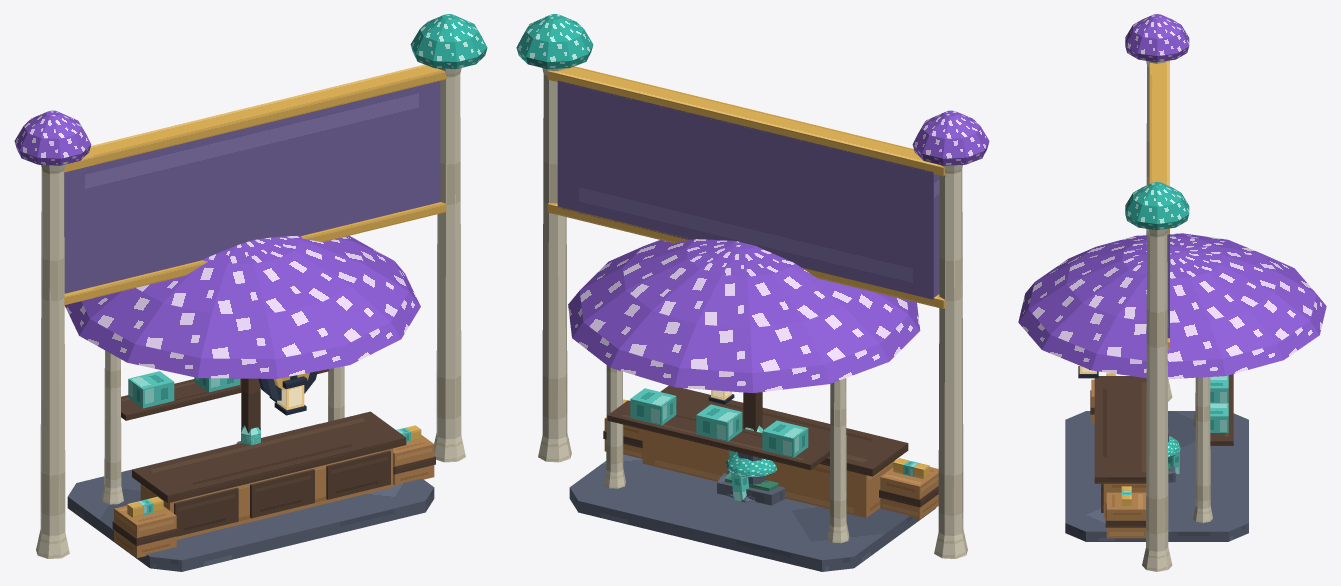
The model's file is fungal-props.glb.
3 views of the same model, side by side, from view 1: azimuth 30°, elevation 25°; view 2: azimuth 150°, elevation 25°; view 3: azimuth 270°, elevation 25° (orthographic). The views are drawn at different scales.
Visible parts, largest first — view 1: Board, Canopy, Deck, CounterTop, Upright, Upright.001, BoardTrim, BoardTrimLow, UprightCap.001, UprightCap, Post, Counter (+10 smaller); view 2: Board, Canopy, Deck, Upright, Upright.001, BoardTrim, Counter, CounterTop, Shelf, UprightCap.001, UprightCap, Post (+9 smaller); view 3: Canopy, Deck, Upright.001, CounterTop, BoardTrim, UprightCap.001, UprightCap, Post.001, Crate.001, Shelf, Stock.002, Upright (+2 smaller).
Boxes of the visible parts, x1=… form: Board: x1=64, y1=81, x2=440, y2=293; Canopy: x1=64, y1=235, x2=420, y2=378; Deck: x1=67, y1=423, x2=434, y2=571; CounterTop: x1=132, y1=411, x2=406, y2=503; Upright: x1=36, y1=164, x2=69, y2=558; Upright.001: x1=434, y1=68, x2=465, y2=462; BoardTrim: x1=63, y1=64, x2=447, y2=172; BoardTrimLow: x1=64, y1=202, x2=446, y2=305; UprightCap.001: x1=410, y1=14, x2=487, y2=68; UprightCap: x1=14, y1=110, x2=91, y2=165; Post: x1=101, y1=350, x2=123, y2=504; Counter: x1=140, y1=448, x2=393, y2=539; Board: x1=557, y1=80, x2=939, y2=299; Canopy: x1=568, y1=239, x2=920, y2=393; Deck: x1=569, y1=454, x2=935, y2=571; Upright: x1=934, y1=165, x2=967, y2=558; Upright.001: x1=538, y1=68, x2=571, y2=462; BoardTrim: x1=547, y1=66, x2=945, y2=176; Counter: x1=642, y1=429, x2=895, y2=517; CounterTop: x1=660, y1=385, x2=908, y2=476; Shelf: x1=607, y1=400, x2=829, y2=469; UprightCap.001: x1=516, y1=14, x2=593, y2=68; UprightCap: x1=912, y1=110, x2=989, y2=165; Post: x1=827, y1=378, x2=849, y2=543; Canopy: x1=1018, y1=233, x2=1326, y2=379; Deck: x1=1065, y1=411, x2=1248, y2=541; Upright.001: x1=1142, y1=228, x2=1172, y2=571; CounterTop: x1=1094, y1=376, x2=1146, y2=483; BoardTrim: x1=1149, y1=60, x2=1169, y2=234; UprightCap.001: x1=1125, y1=182, x2=1189, y2=230; UprightCap: x1=1125, y1=14, x2=1189, y2=62; Post.001: x1=1193, y1=377, x2=1212, y2=522; Crate.001: x1=1106, y1=492, x2=1146, y2=538; Shelf: x1=1210, y1=374, x2=1233, y2=445; Stock.002: x1=1210, y1=403, x2=1228, y2=432; Upright: x1=1146, y1=60, x2=1172, y2=401.
Size of the model in its own units: 9.12 by 8.25 by 6.05.
2 materials, 2 textured.
